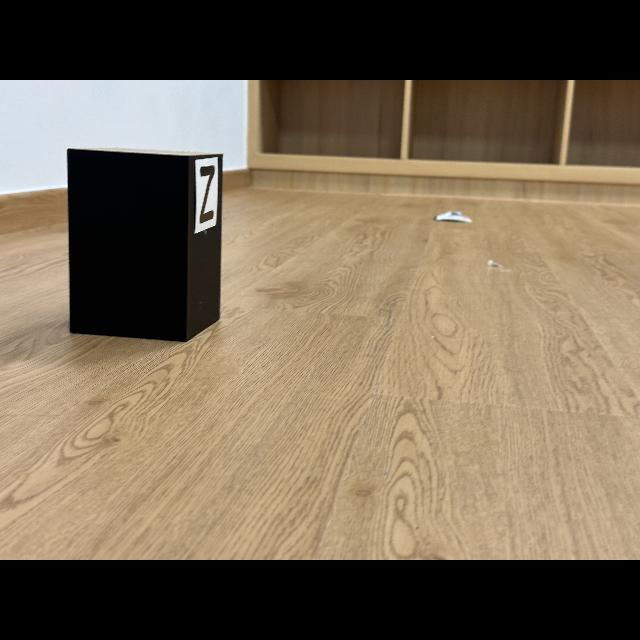Z: (200, 165, 215, 224)
